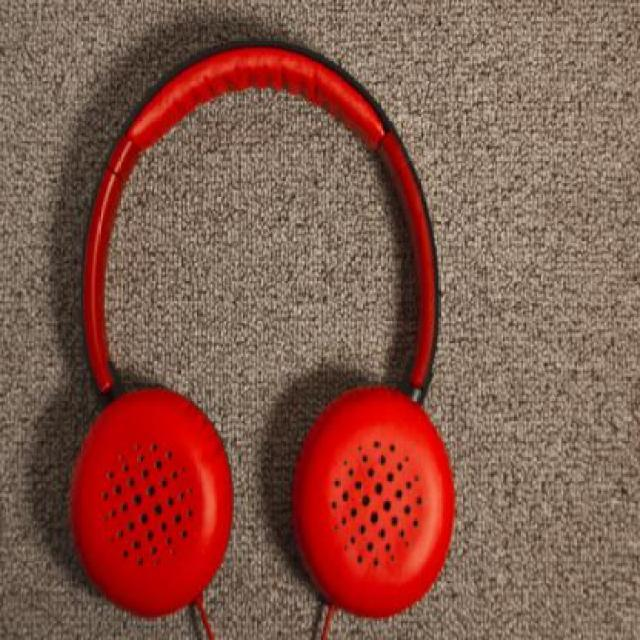earphone: (65, 33, 495, 615)
